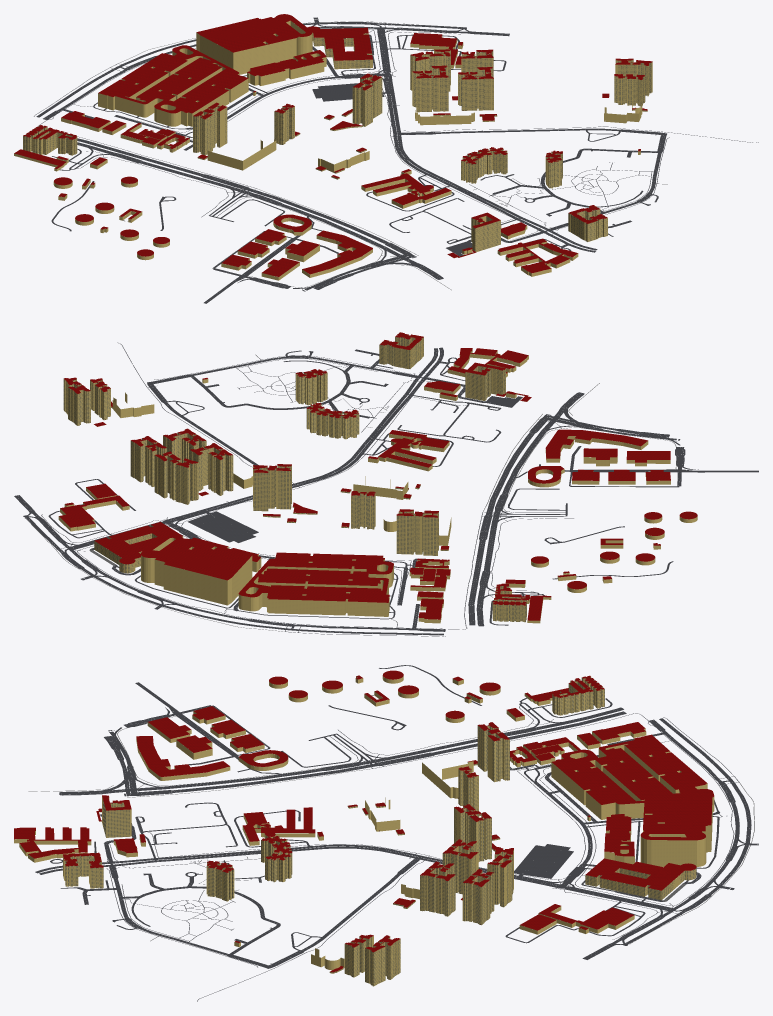
Rendered from osm3d.glb.
3 renders of one model, top to bottom at view 1: azimuth 30°, elevation 25°; view 2: azimuth 150°, elevation 25°; view 3: azimuth 270°, elevation 25°, orthographic. The views are drawn at different scales.
Visible parts, largest first — view 1: Plaster002, RoofingTiles010, ASPHALT, Windows, Concrete034; view 2: Plaster002, RoofingTiles010, ASPHALT, Windows, Concrete034; view 3: Plaster002, RoofingTiles010, ASPHALT, Windows, Concrete034.
Boxes of the visible parts, x1,y1,x2,y2 form: Plaster002: (14,20,652,280); RoofingTiles010: (14,14,652,276); ASPHALT: (34,17,758,303); Windows: (23,38,651,251); Concrete034: (82,21,667,290); Plaster002: (58,333,697,623); RoofingTiles010: (59,332,697,620); ASPHALT: (14,342,758,636); Windows: (63,337,526,621); Concrete034: (25,354,676,631); Plaster002: (14,675,714,986); RoofingTiles010: (14,670,714,972); ASPHALT: (35,665,758,1001); Windows: (63,677,696,985); Concrete034: (28,716,754,944).
Size of the model in its own units: 1323 by 75.02 by 1237.
16 materials, 16 textured.
